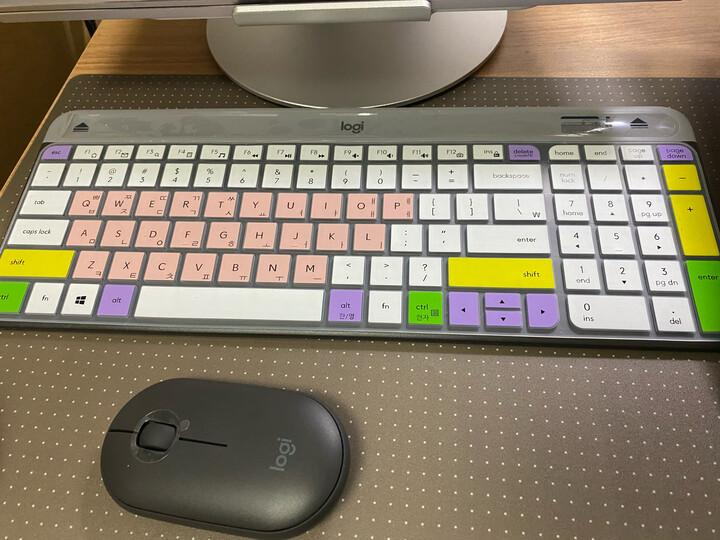keyboard: (0, 104, 719, 346)
mouse: (99, 376, 350, 537)
